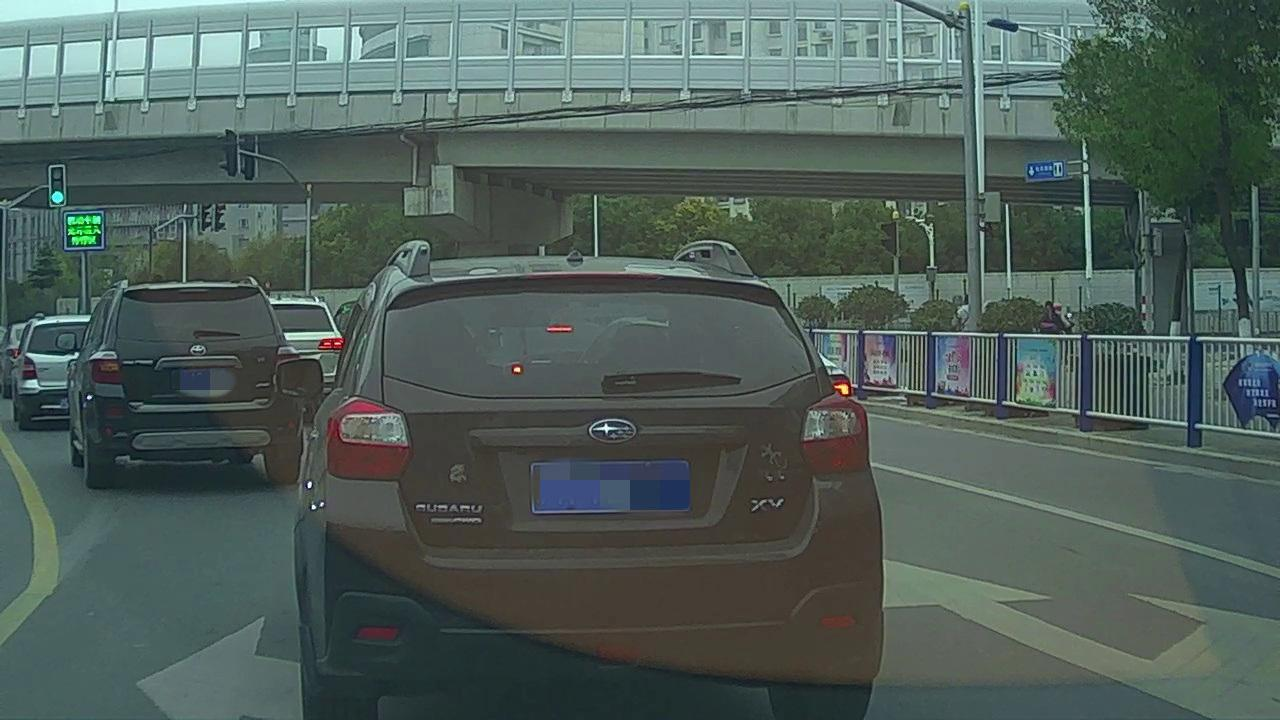traffic_light: (50, 166, 64, 206)
